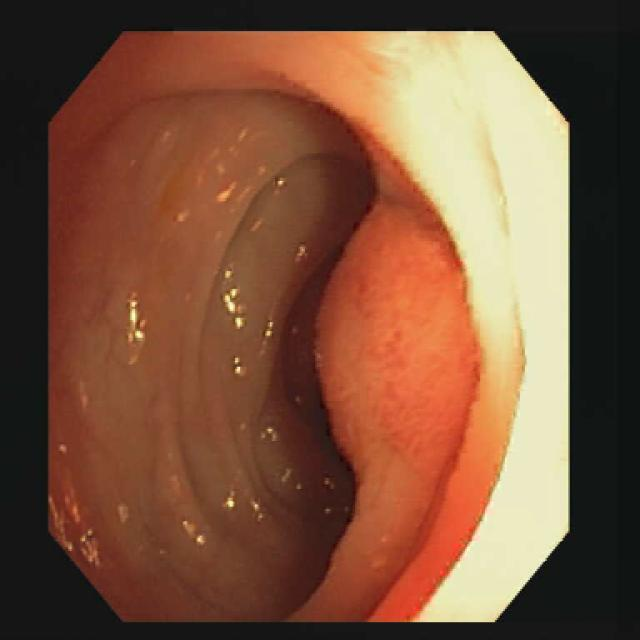tumor: (320, 204, 478, 507)
